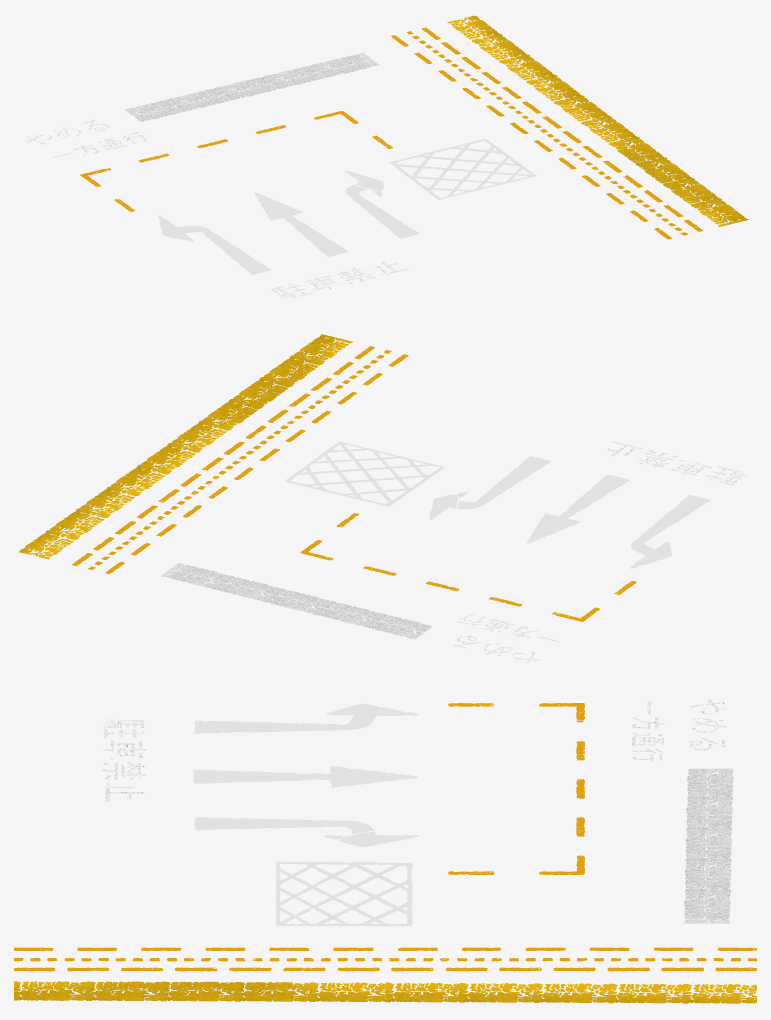
File: Decals.fbx
The picture shows the model from 3 angles, top to bottom: view 1: azimuth 30°, elevation 25°; view 2: azimuth 150°, elevation 25°; view 3: azimuth 270°, elevation 25°; orthographic projection. The views are drawn at different scales.
Parts seen in each view (by area): view 1: RoadDecals.002, RoadDecals.005, RoadDecals.001, RoadDecals.003, RoadDecals.008, RoadDecals.010, RoadDecals.009, RoadDecals.004, RoadDecals; view 2: RoadDecals.002, RoadDecals.005, RoadDecals.001, RoadDecals.003, RoadDecals.010, RoadDecals.009, RoadDecals.008, RoadDecals.004, RoadDecals; view 3: RoadDecals.002, RoadDecals.005, RoadDecals.001, RoadDecals.003, RoadDecals.008, RoadDecals.010, RoadDecals.009, RoadDecals.004, RoadDecals, RoadDecals.006.
Boxes of the visible parts, x1,y1,x2,y2 form: RoadDecals.002: (447, 15, 748, 226); RoadDecals.005: (125, 52, 379, 121); RoadDecals.001: (390, 27, 703, 239); RoadDecals.003: (389, 139, 535, 199); RoadDecals.008: (158, 215, 271, 274); RoadDecals.010: (345, 170, 419, 238); RoadDecals.009: (254, 192, 347, 256); RoadDecals.004: (80, 111, 392, 211); RoadDecals: (271, 261, 409, 298); RoadDecals.002: (19, 334, 352, 559); RoadDecals.005: (161, 563, 431, 639); RoadDecals.001: (72, 346, 408, 574); RoadDecals.003: (285, 441, 444, 506); RoadDecals.010: (429, 456, 550, 519); RoadDecals.009: (526, 475, 629, 543); RoadDecals.008: (630, 495, 709, 568); RoadDecals.004: (300, 513, 636, 621); RoadDecals: (607, 441, 747, 484); RoadDecals.002: (14, 981, 756, 1003); RoadDecals.005: (684, 768, 733, 923); RoadDecals.001: (14, 947, 756, 971); RoadDecals.003: (275, 861, 412, 926); RoadDecals.008: (194, 703, 418, 733); RoadDecals.010: (194, 817, 418, 847); RoadDecals.009: (193, 766, 418, 787); RoadDecals.004: (448, 703, 584, 874); RoadDecals: (102, 719, 146, 801); RoadDecals.006: (632, 701, 664, 761).
Size of the model in its own units: 138 by 2.51e-05 by 140.
